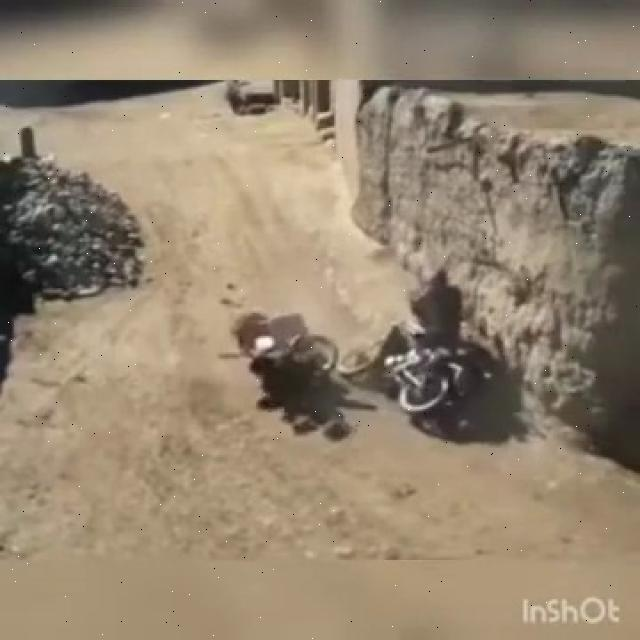accident: (350, 275, 494, 430), (228, 287, 340, 421)
